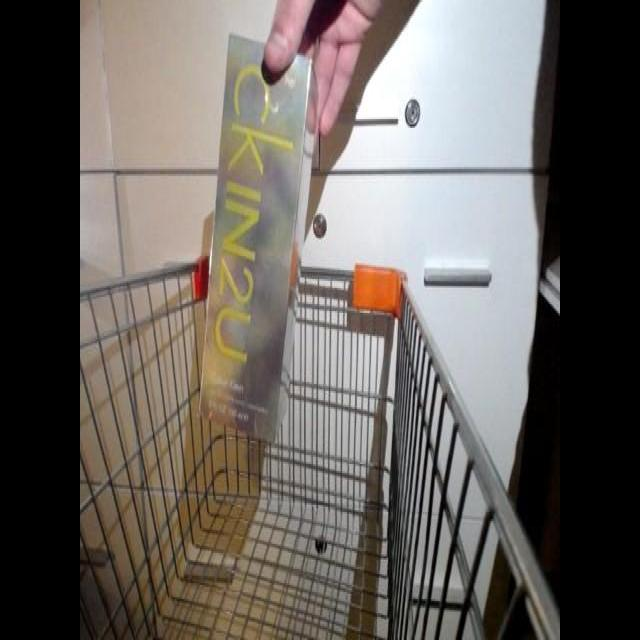Calvin Klein: (195, 34, 326, 448)
